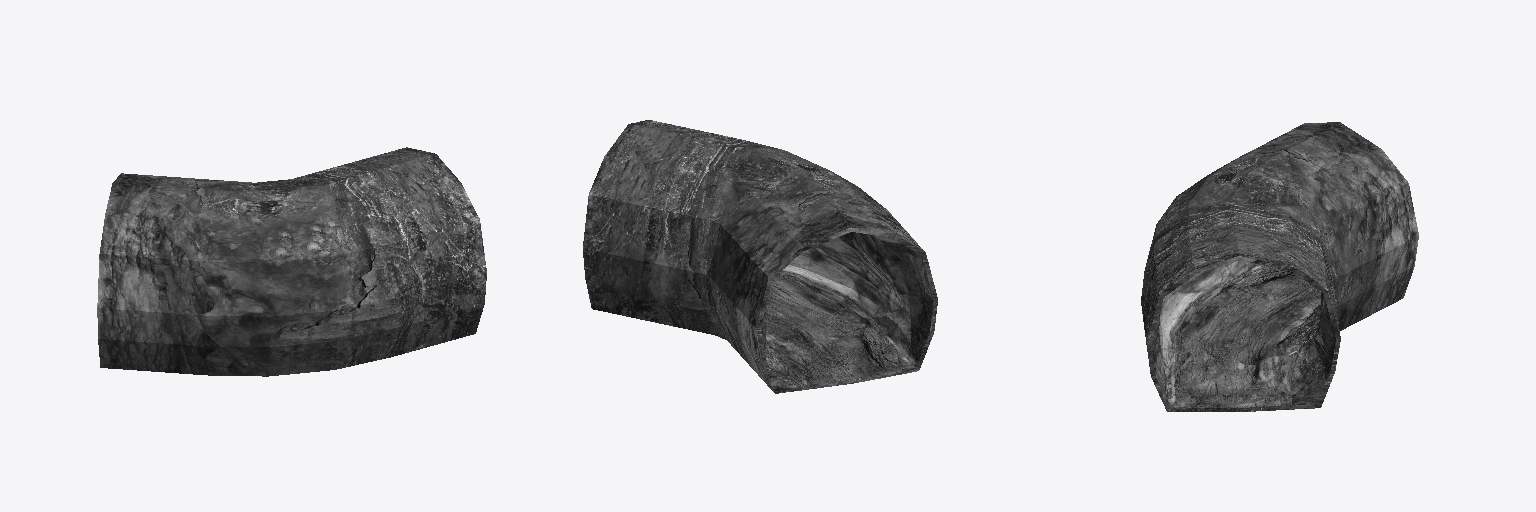
The picture shows the model from 3 angles: view 1: azimuth 30°, elevation 25°; view 2: azimuth 150°, elevation 25°; view 3: azimuth 270°, elevation 25°; orthographic projection.
Parts seen in each view (by area): view 1: corridorA_curve1_cave4; view 2: corridorA_curve1_cave4; view 3: corridorA_curve1_cave4.
Part boxes in pixels (bbox=[...]): corridorA_curve1_cave4: bbox=[97, 147, 486, 376]; corridorA_curve1_cave4: bbox=[583, 120, 937, 393]; corridorA_curve1_cave4: bbox=[1141, 122, 1418, 411].
Size of the model in its own units: 199 by 90.83 by 146.
Materials: 1 (1 with a texture image).